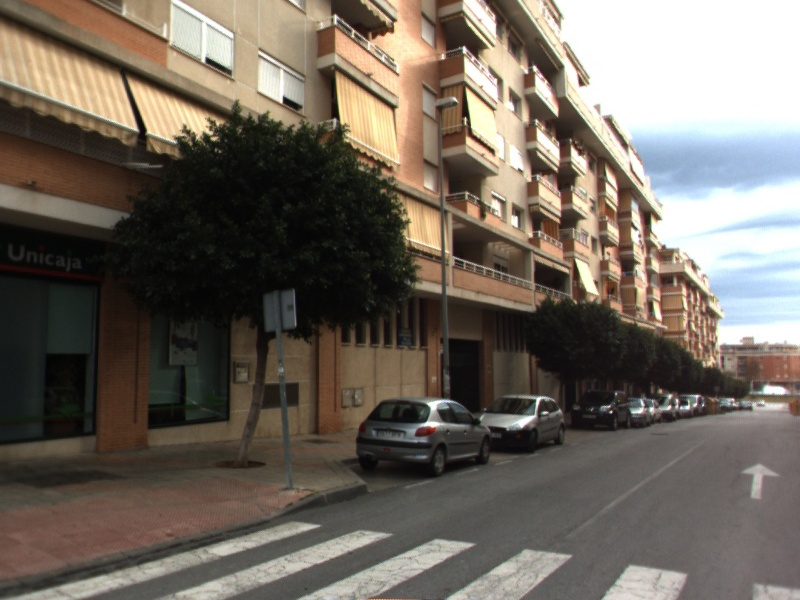STRAIGHT: (738, 461, 783, 501)
